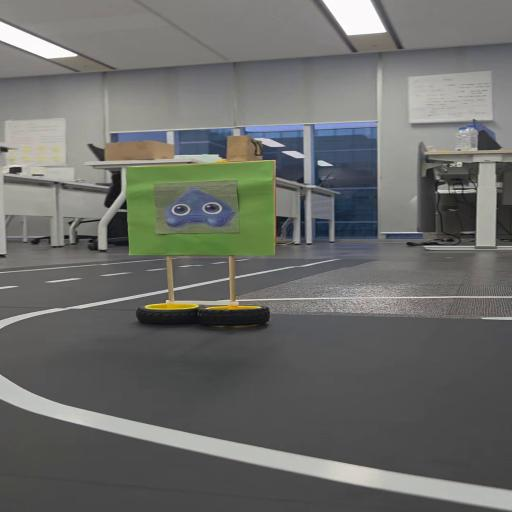Sign_B: (115, 155, 290, 335)
